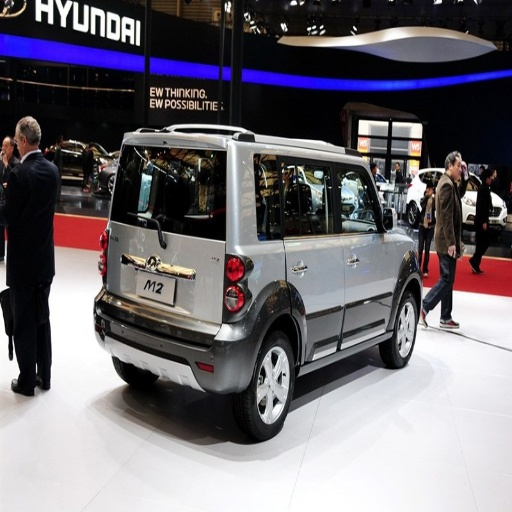back_bumper: (94, 291, 259, 392)
back_right_door: (288, 162, 350, 358), (143, 147, 205, 178)
trunk: (107, 227, 282, 326)
